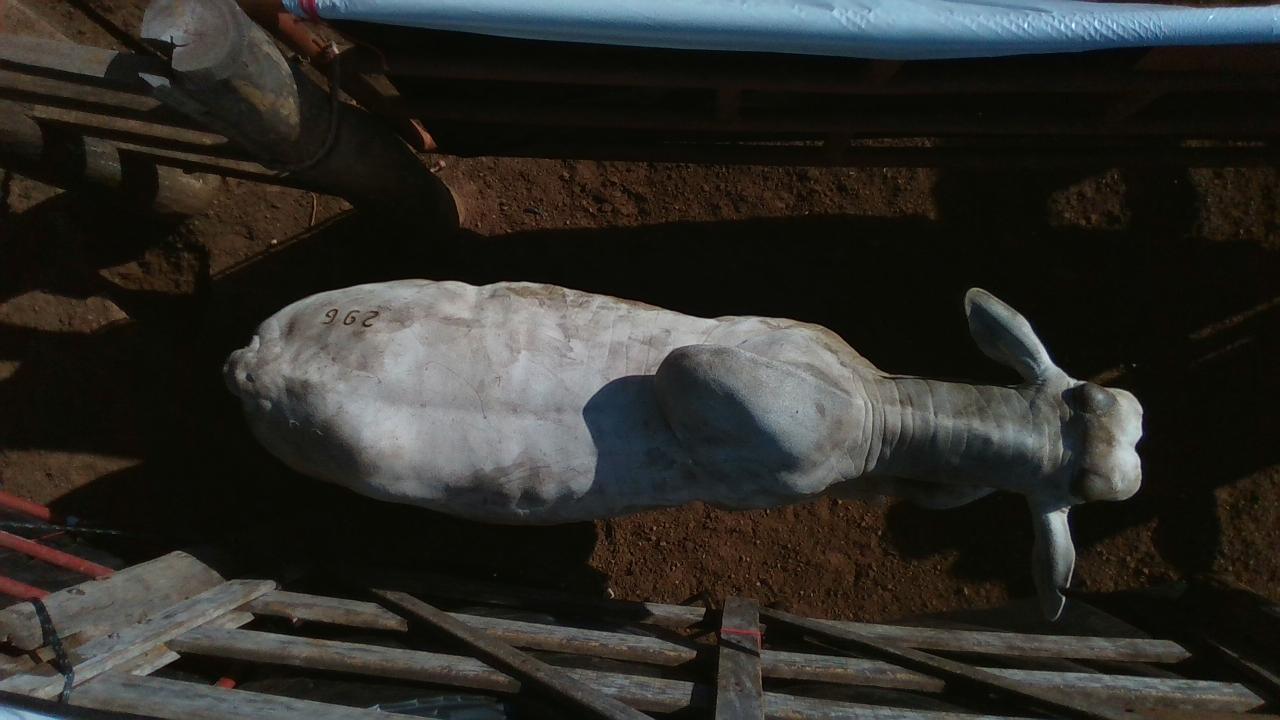cattle: (221, 276, 1146, 621)
